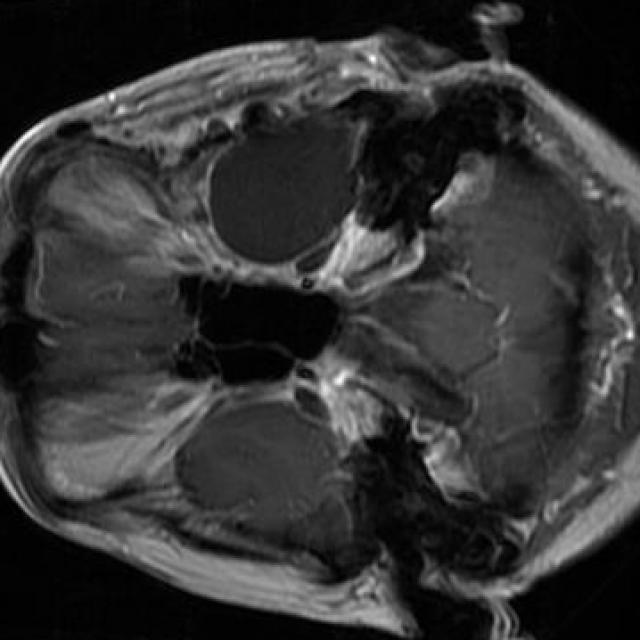glioma: (210, 118, 360, 266)
